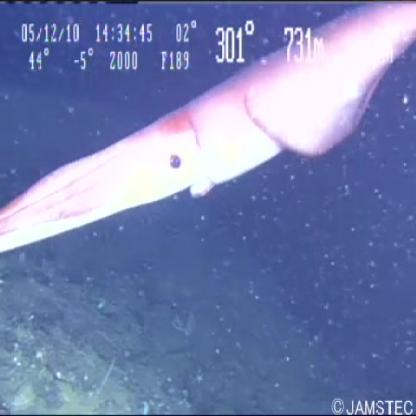Bio: (1, 1, 416, 253)
